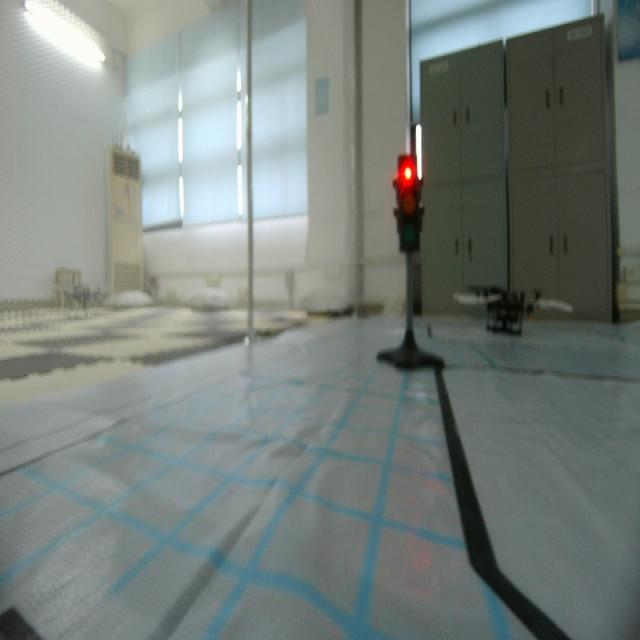red: (390, 148, 426, 264)
